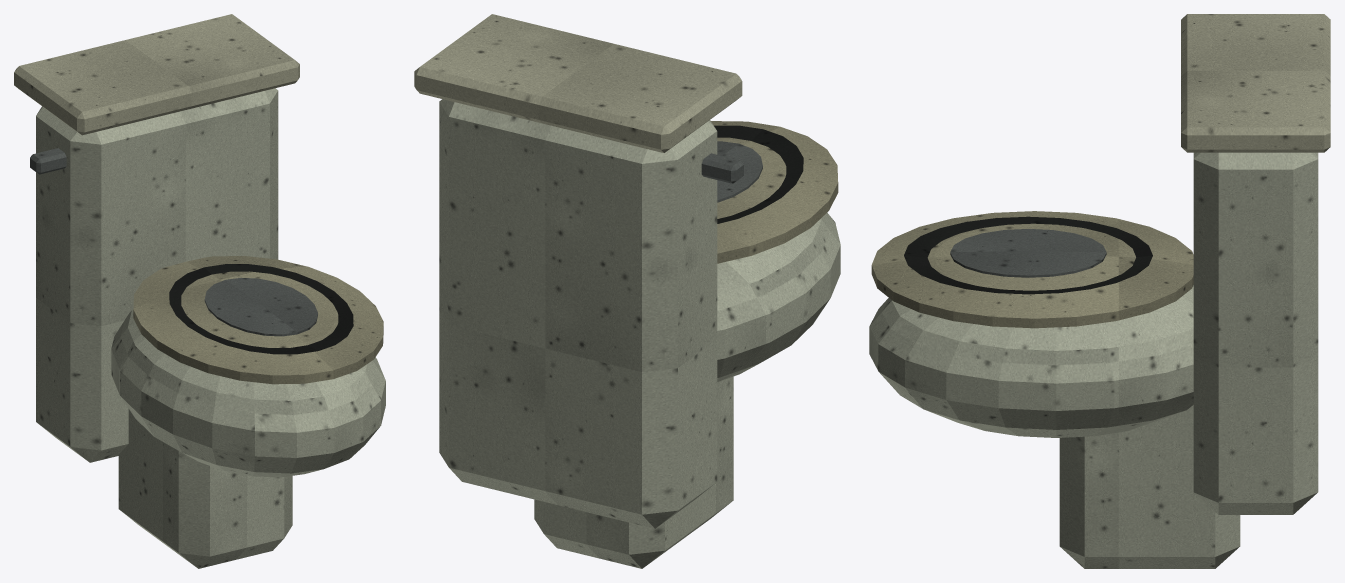
Rendered from toilet_old.glb.
3 renders of one model, left to right at view 1: azimuth 30°, elevation 25°; view 2: azimuth 150°, elevation 25°; view 3: azimuth 270°, elevation 25°, orthographic. The views are drawn at different scales.
Visible parts, largest first — view 1: PROP_toilet_old; view 2: PROP_toilet_old; view 3: PROP_toilet_old.
Part boxes in pixels (x1=…): PROP_toilet_old: x1=14, y1=14, x2=385, y2=568; PROP_toilet_old: x1=414, y1=14, x2=840, y2=568; PROP_toilet_old: x1=869, y1=14, x2=1330, y2=568.
Bounding box in the file's own units: 0.4925 × 0.8475 × 0.7404.
Materials: 5 (5 with a texture image).
